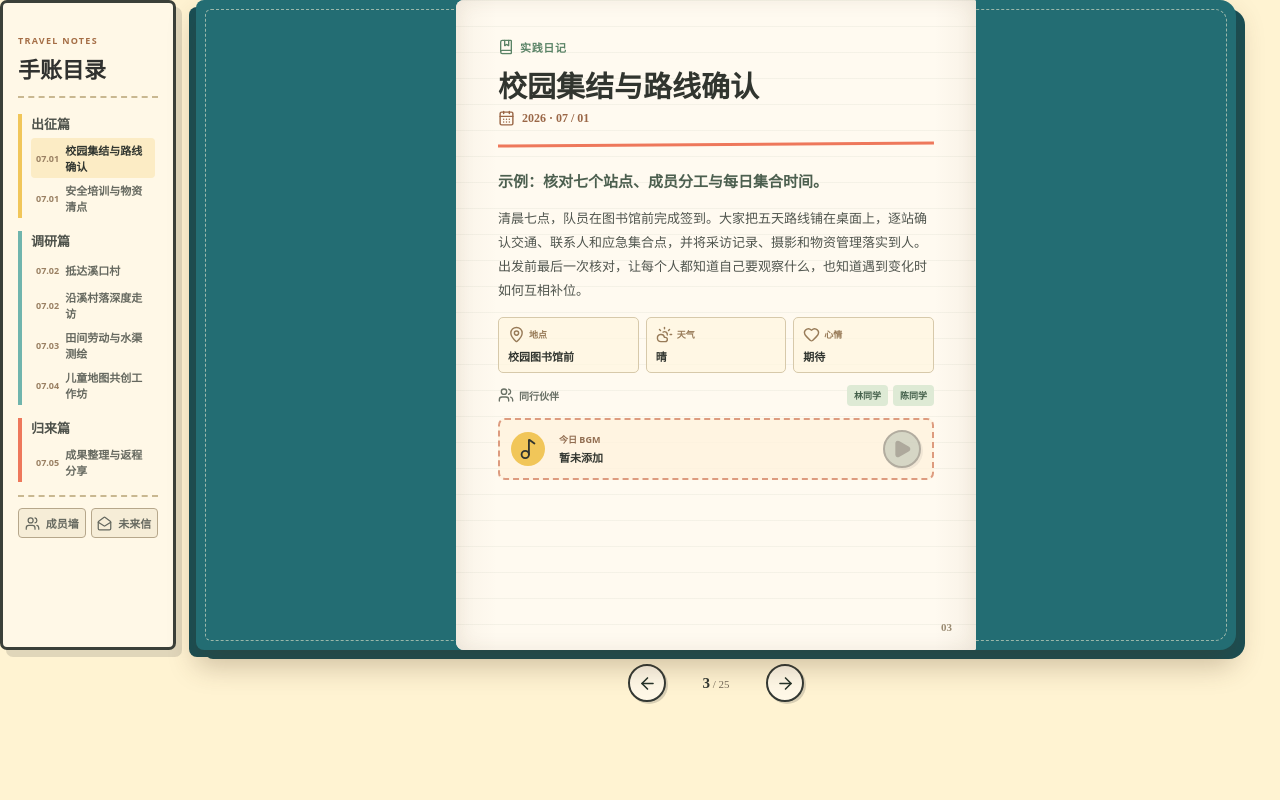
shows the non-confidential notice while a future letter is locked
Click the button "未来信": (124, 523) 90,508 -> 158,538
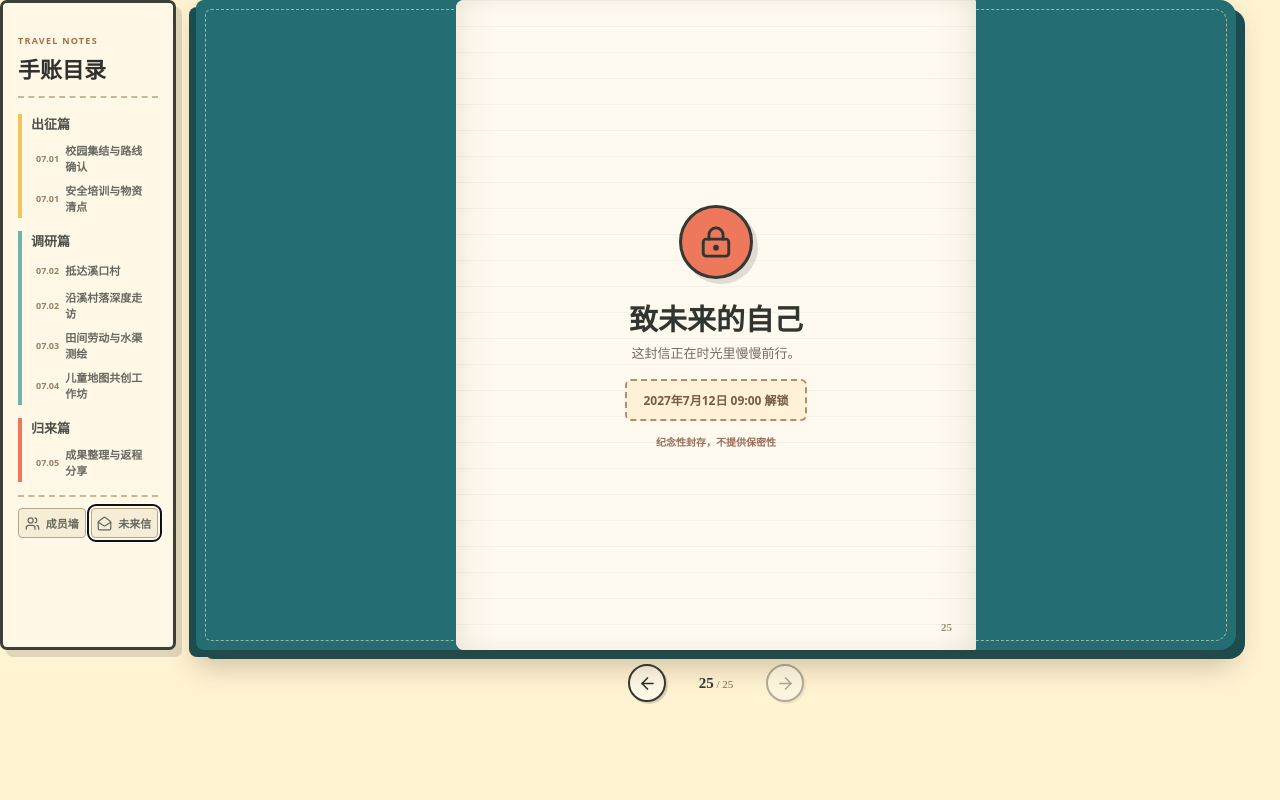
Now the text "纪念性封存，不提供保密性" is shown, box 656,434 -> 776,449
